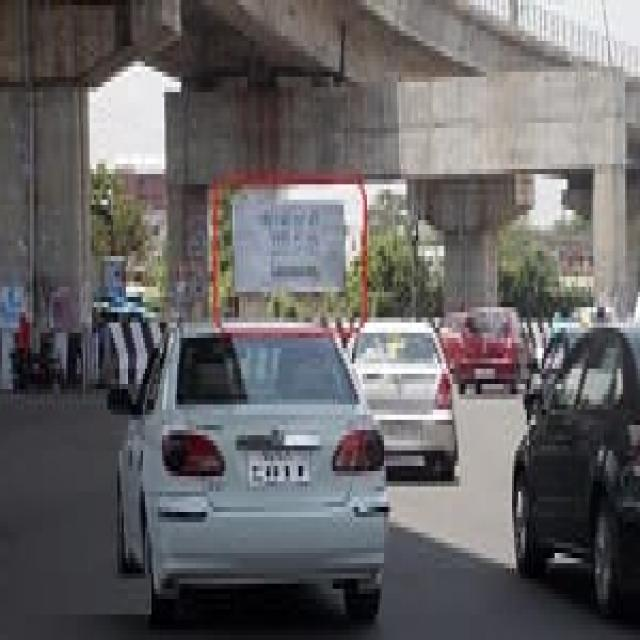Werbetafel frei: (232, 193, 346, 300)
